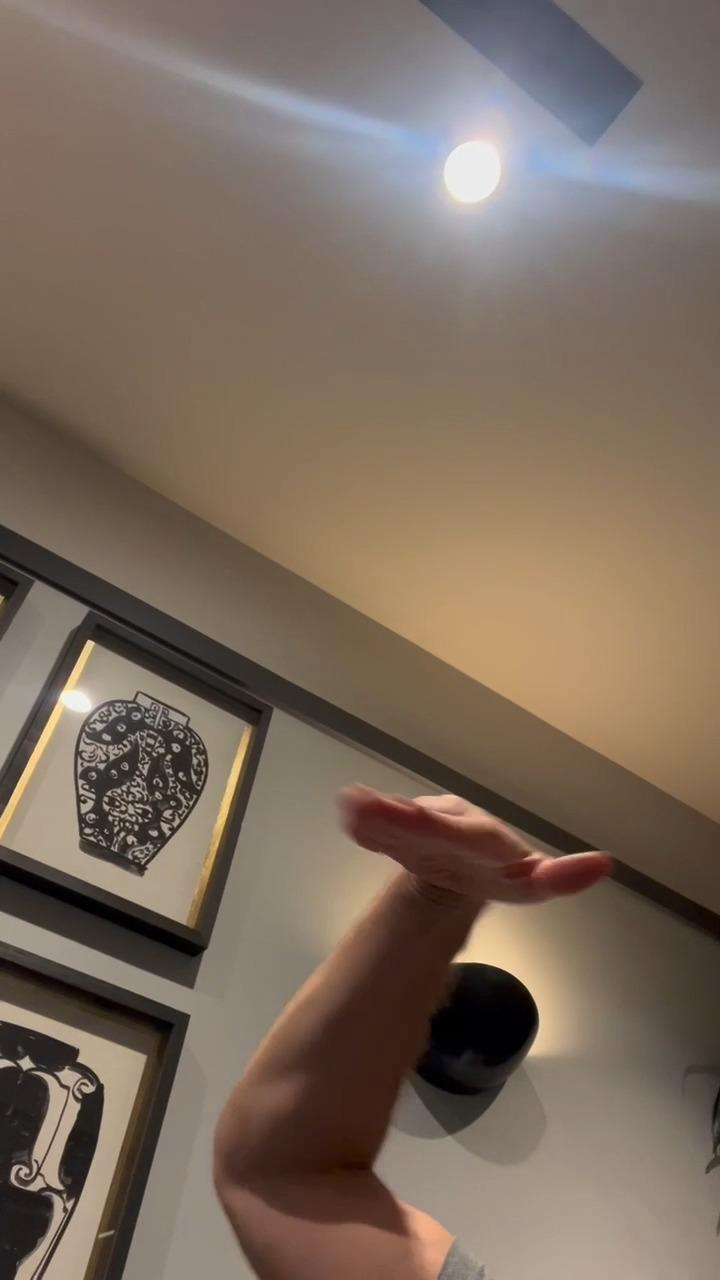Paper: (334, 787, 611, 913)
